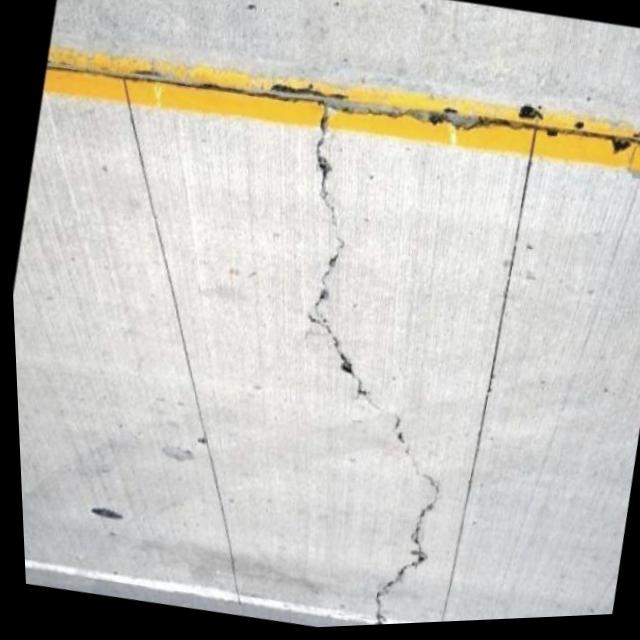Crack: (338, 432, 466, 629), (264, 213, 407, 382), (251, 100, 381, 278), (310, 337, 446, 464)
